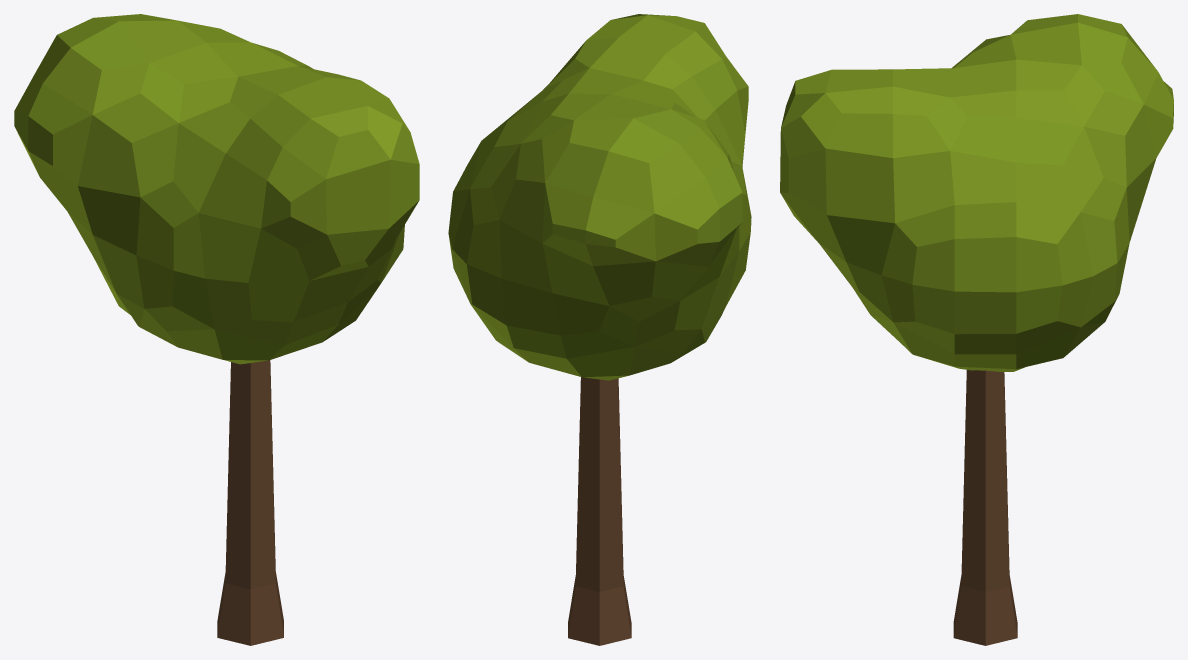
Rendered from tree_round.glb.
3 views of the same model, side by side, from view 1: azimuth 30°, elevation 25°; view 2: azimuth 150°, elevation 25°; view 3: azimuth 270°, elevation 25° (orthographic). The views are drawn at different scales.
Visible parts, largest first — view 1: tree_round_canopy, tree_round_trunk; view 2: tree_round_canopy, tree_round_trunk; view 3: tree_round_canopy, tree_round_trunk.
Boxes of the visible parts, bbox=[...] form: tree_round_canopy: bbox=[14, 14, 419, 364]; tree_round_trunk: bbox=[217, 360, 283, 645]; tree_round_canopy: bbox=[448, 14, 751, 380]; tree_round_trunk: bbox=[568, 377, 631, 645]; tree_round_canopy: bbox=[780, 14, 1173, 371]; tree_round_trunk: bbox=[953, 370, 1017, 645].
Bounding box in the file's own units: 1.66 × 3.05 × 1.92.
Materials: 1 (1 with a texture image).
